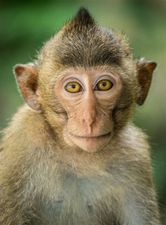monkey: (14, 7, 161, 209)
